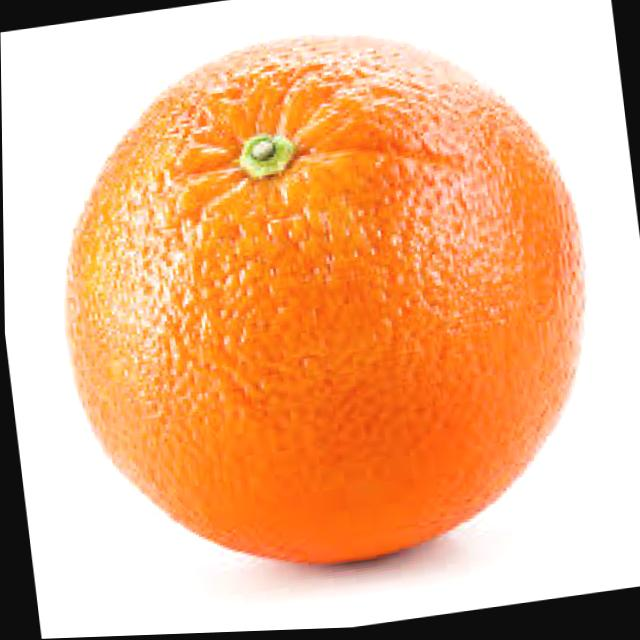orange: (28, 3, 614, 608)
